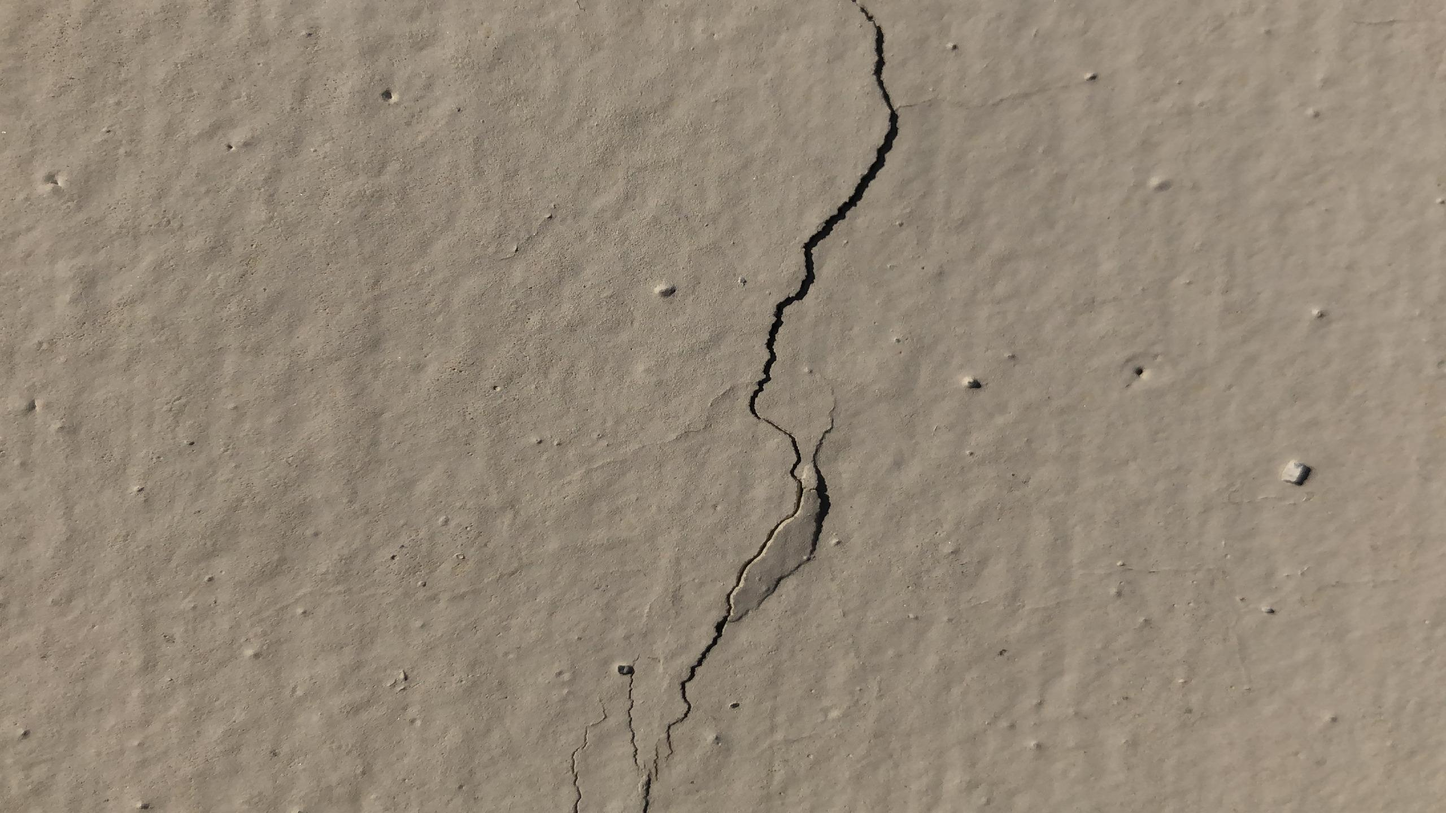crack: (664, 3, 901, 763), (729, 387, 838, 625), (570, 693, 610, 811), (627, 652, 642, 769)
